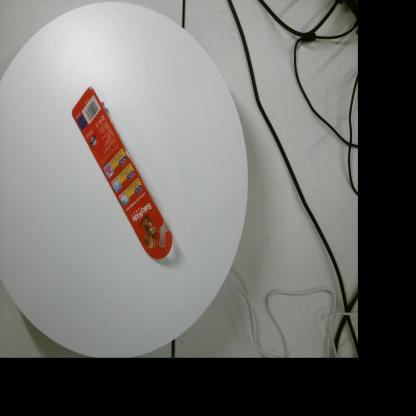Personal Hygiene: (72, 86, 172, 260)
